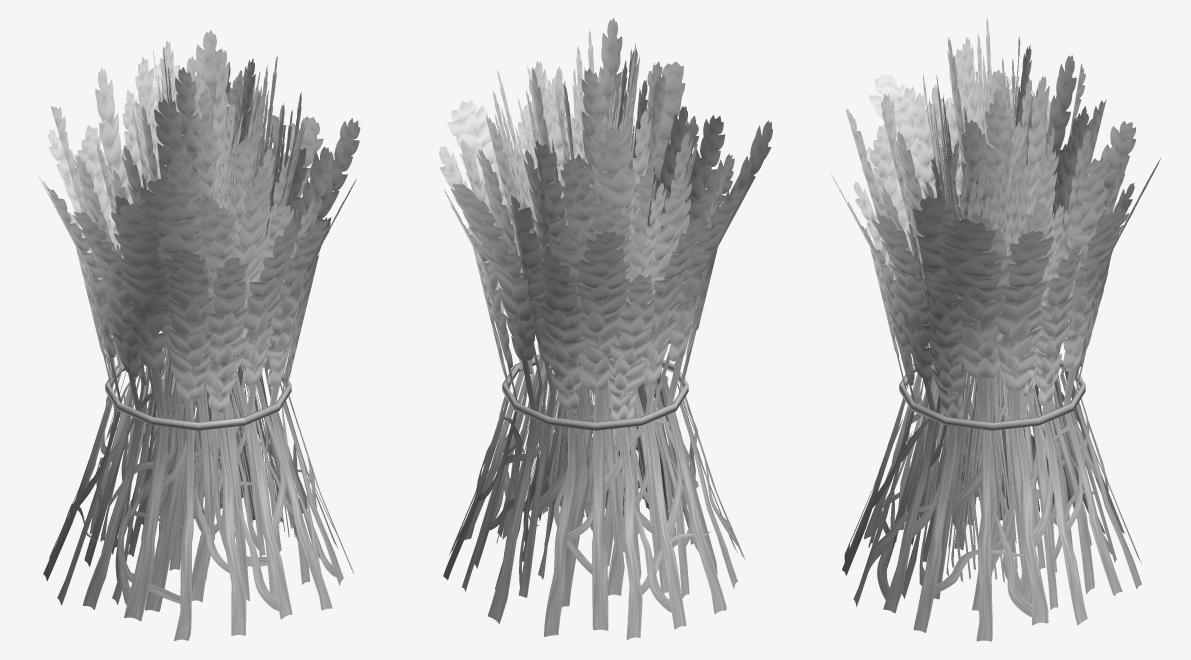
File: Wheat01.fbx
3 views of the same model, side by side, from view 1: azimuth 30°, elevation 25°; view 2: azimuth 150°, elevation 25°; view 3: azimuth 270°, elevation 25° (orthographic).
Parts seen in each view (by area): view 1: Wheat01_LOD0; view 2: Wheat01_LOD0; view 3: Wheat01_LOD0.
Part boxes in pixels (<box>): Wheat01_LOD0: <box>39,30,360,640</box>; Wheat01_LOD0: <box>439,18,772,639</box>; Wheat01_LOD0: <box>830,17,1160,641</box>.
Size of what is drawn, in the model's own units: 53.43 by 87.3 by 53.43.
